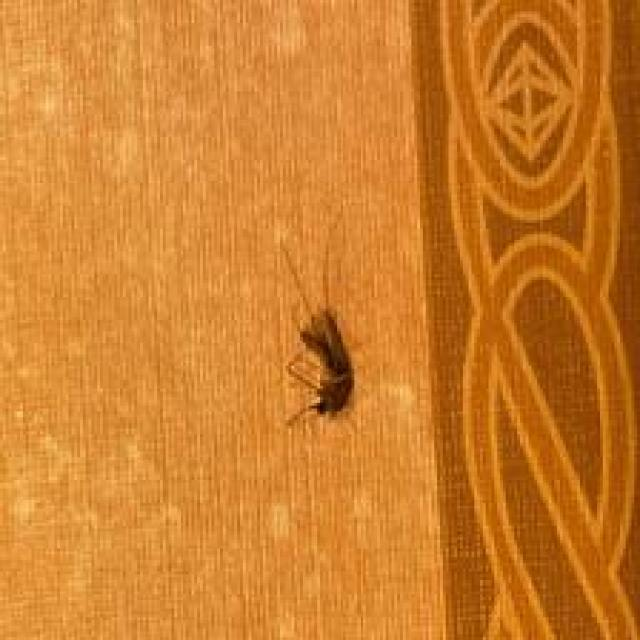Culex: (277, 237, 357, 429)
